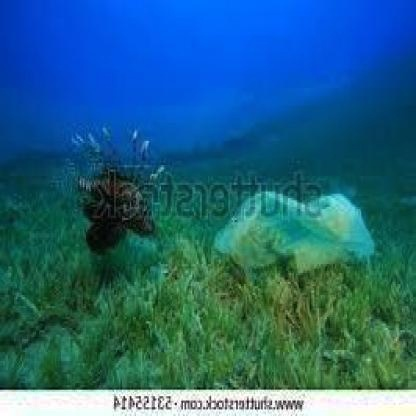pbag: (213, 191, 377, 273)
